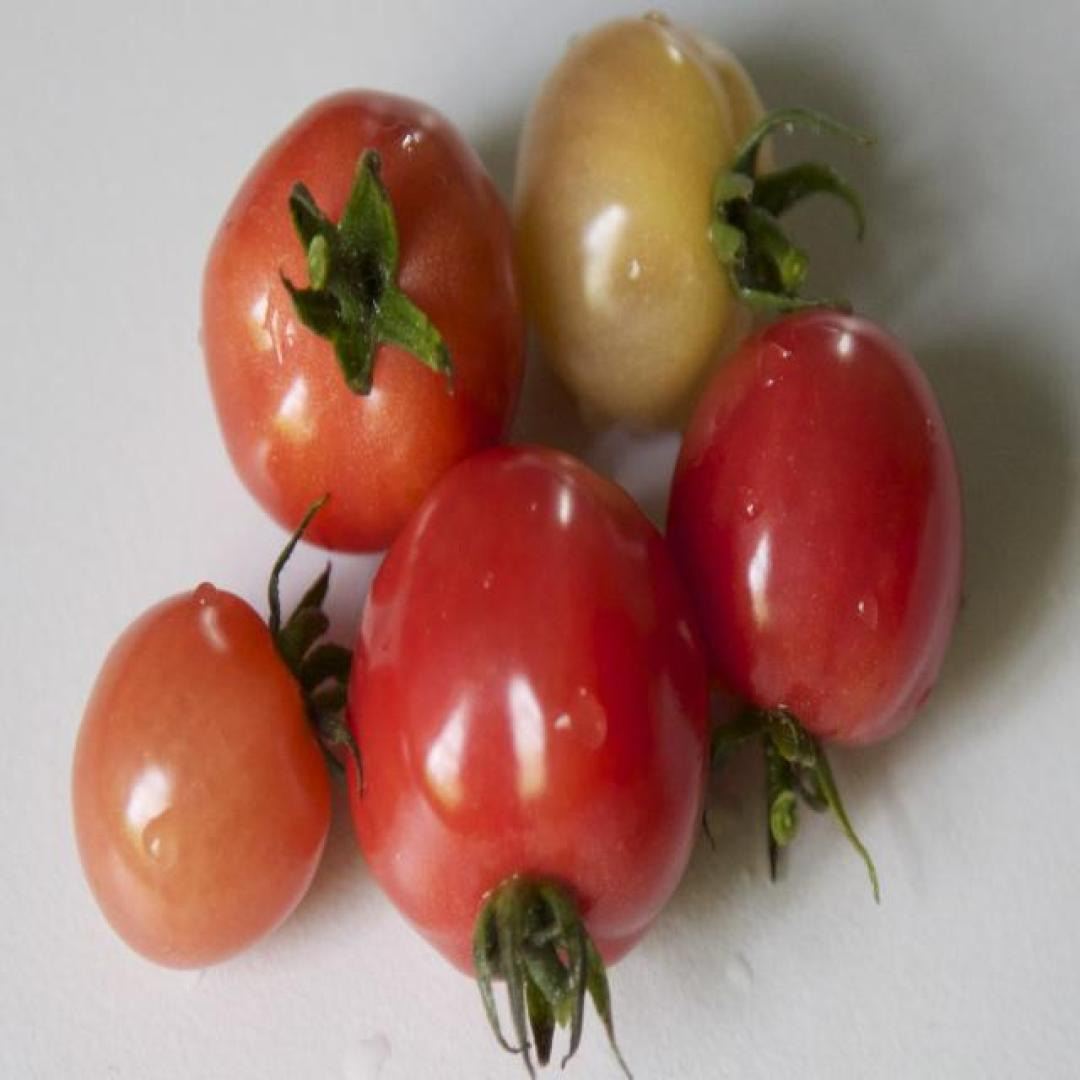matang: (344, 442, 710, 981), (201, 88, 530, 554), (665, 307, 963, 749)
setengah_matang: (512, 19, 782, 434), (73, 589, 330, 970)
